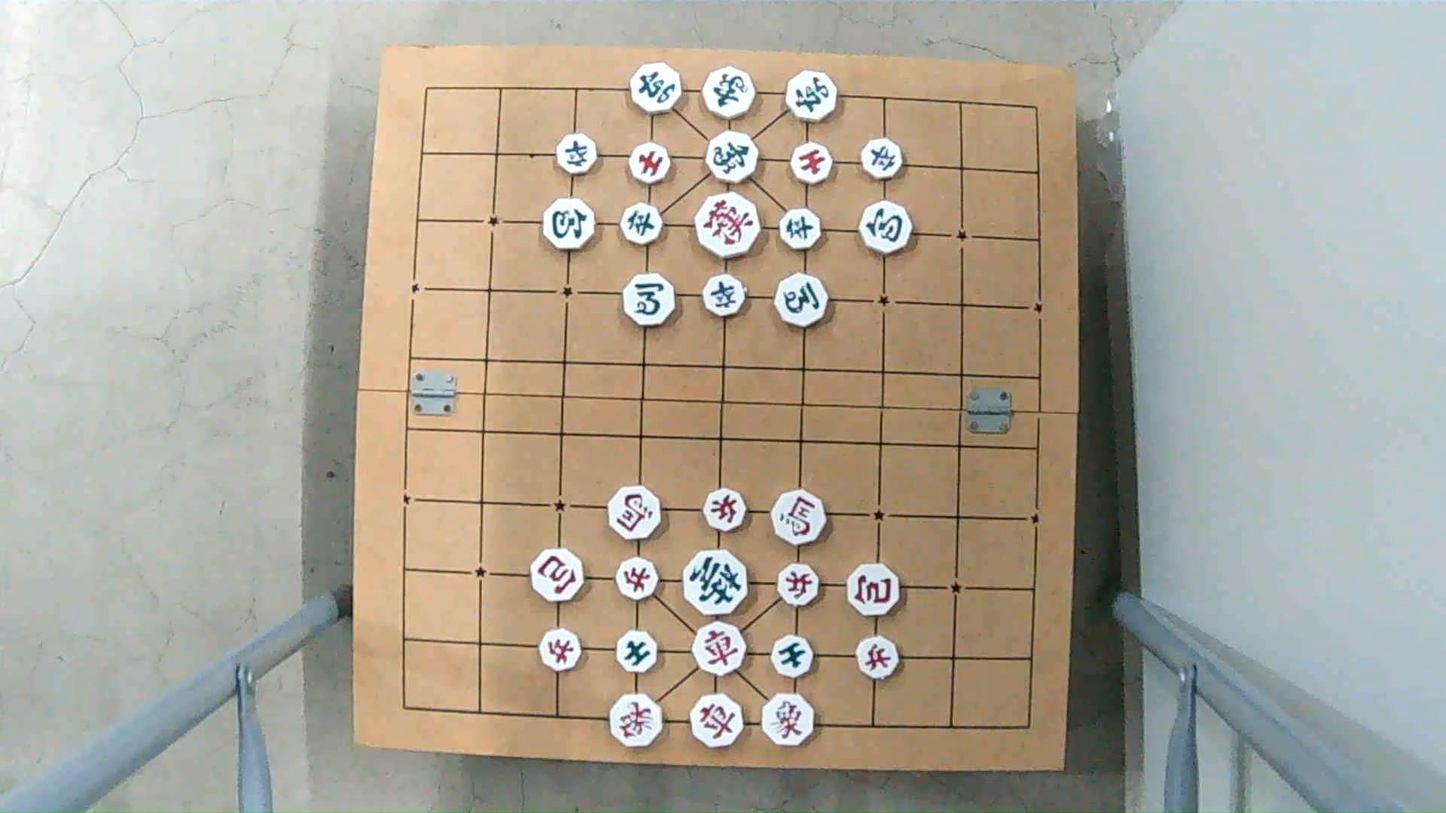cha_green: (630, 61, 683, 111), (784, 74, 839, 120)
cha_red: (688, 696, 748, 747), (689, 626, 749, 675)
jol_green: (700, 274, 748, 318), (777, 209, 825, 249), (618, 206, 668, 243), (859, 139, 905, 178), (552, 135, 597, 172)
jol_red: (703, 491, 749, 531), (536, 629, 582, 668), (775, 564, 822, 602), (615, 559, 657, 601), (857, 638, 901, 678)
ma_green: (772, 277, 830, 327), (622, 276, 673, 324)
ma_red: (767, 493, 827, 544), (603, 488, 666, 536)
po_green: (860, 204, 911, 252), (545, 202, 595, 248)
po_red: (527, 550, 588, 598), (847, 567, 904, 615)
sa_green: (770, 635, 816, 676), (615, 634, 661, 674)
sa_red: (788, 142, 835, 184), (627, 141, 673, 183)
sang_green: (703, 132, 760, 181), (698, 71, 757, 117)
sang_red: (609, 693, 664, 748), (758, 696, 818, 746)
wang_green: (682, 554, 745, 614)
wang_red: (694, 196, 764, 253)
